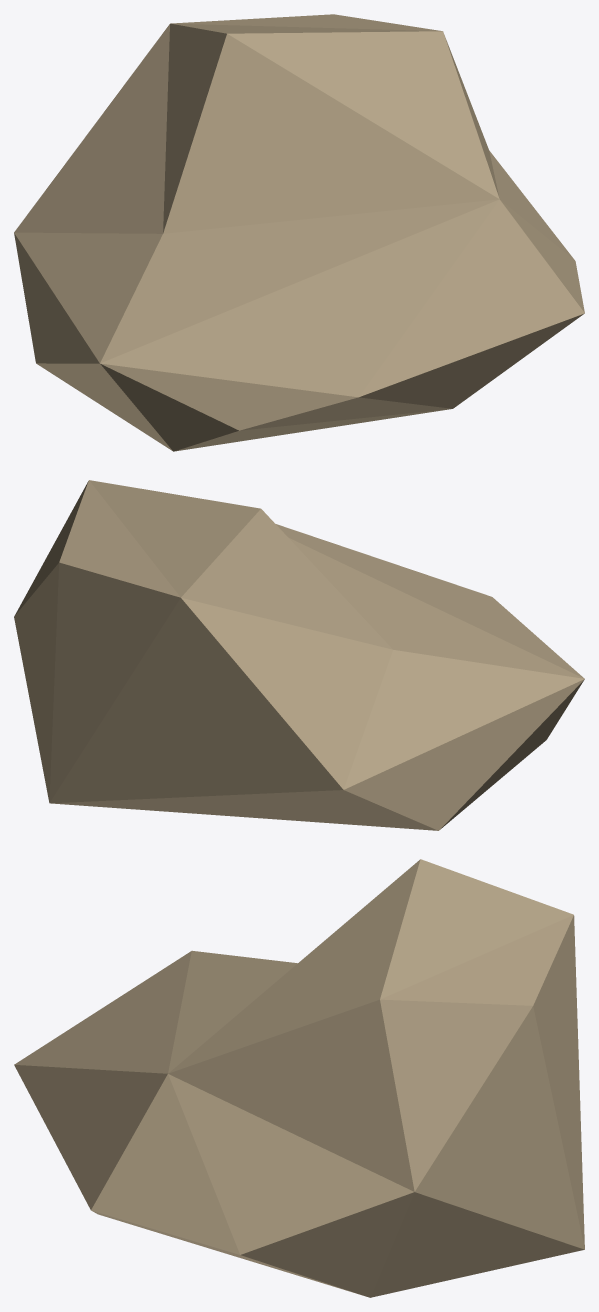
Rendered from Boulder-C06.fbx.
3 views of the same model, one above another, from view 1: azimuth 30°, elevation 25°; view 2: azimuth 150°, elevation 25°; view 3: azimuth 270°, elevation 25° (orthographic). The views are drawn at different scales.
Parts seen in each view (by area): view 1: Boulder-C06; view 2: Boulder-C06; view 3: Boulder-C06.
Part boxes in pixels (x1=…): Boulder-C06: x1=14, y1=14, x2=584, y2=451; Boulder-C06: x1=14, y1=480, x2=584, y2=830; Boulder-C06: x1=14, y1=859, x2=584, y2=1297.
Bounding box in the file's own units: 160 × 87.96 × 145.
